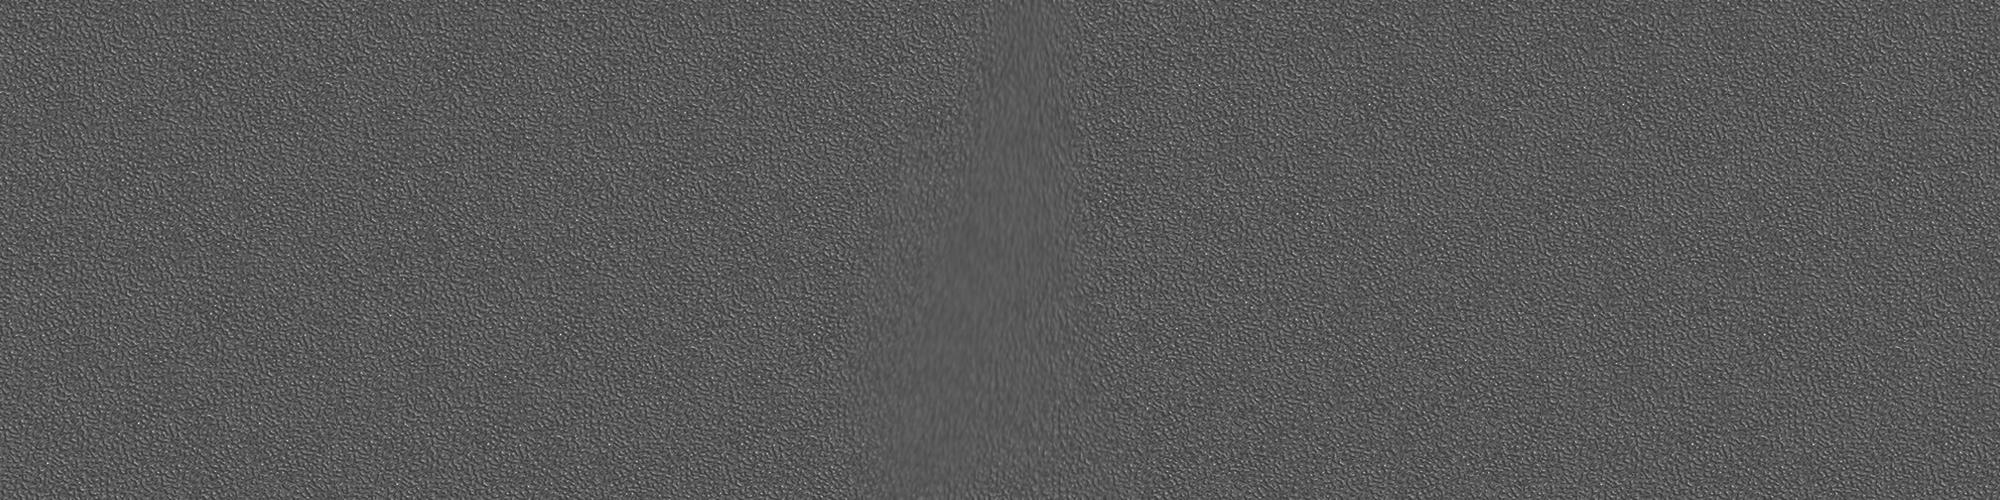Flow_Lines: (878, 19, 1098, 483)
